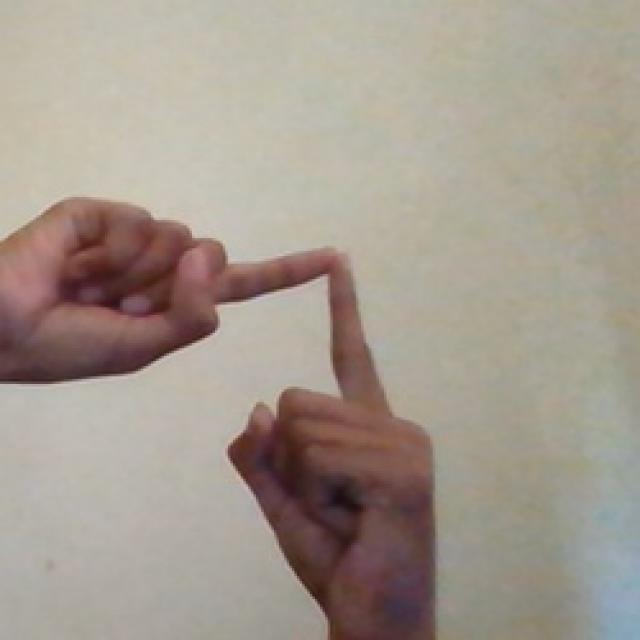Alphabet-E: (1, 200, 438, 639)
